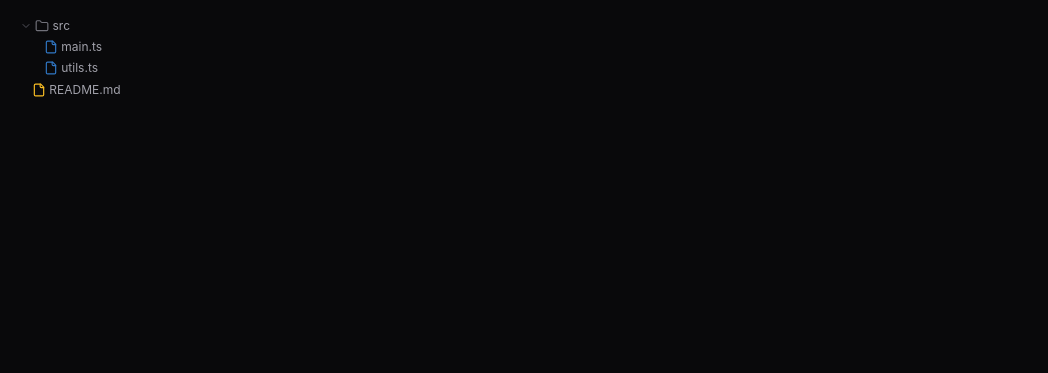
FileTree › shows context menu on right-click of a folder
Right-click the button "src" at point(26, 26), box [12,15,1036,37]
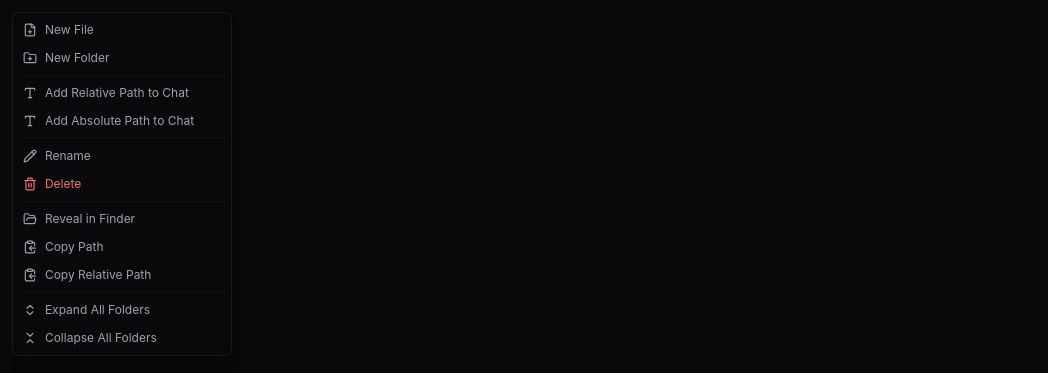
Expected: the button "New File" is shown, [13,16,231,44]
Expected: the button "Rename" is shown, [13,142,231,170]
Expected: the button "Delete" is shown, [13,170,231,198]
